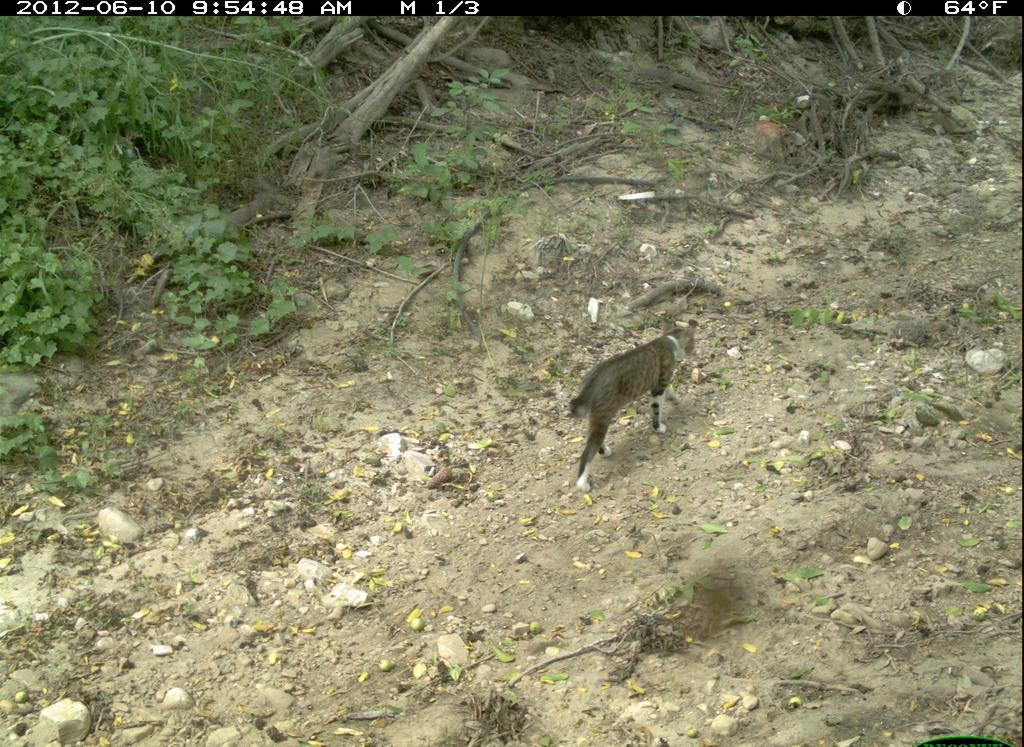cat: (545, 295, 738, 501)
